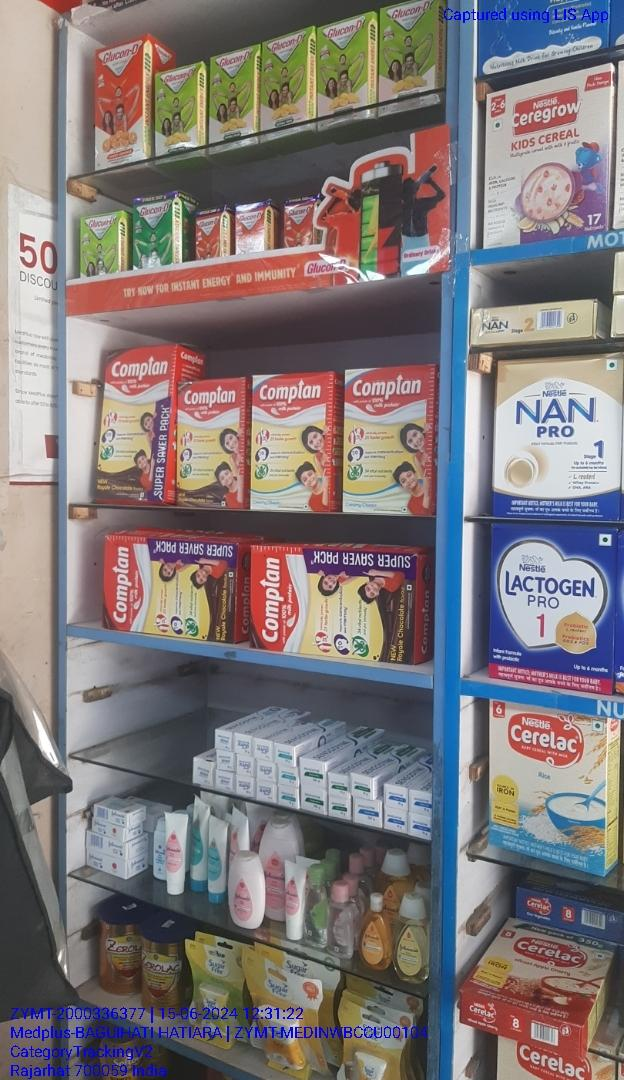COMPLAN_CHOCOLATE_1_KG_PACK: (98, 349, 170, 504)
COMPLAN_CHOCOLATE_500_GMS_PACK: (176, 382, 246, 506)
COMPLAN_CREAMY_CLASSIC_500_G_PACK: (345, 370, 434, 513), (251, 376, 330, 509)
